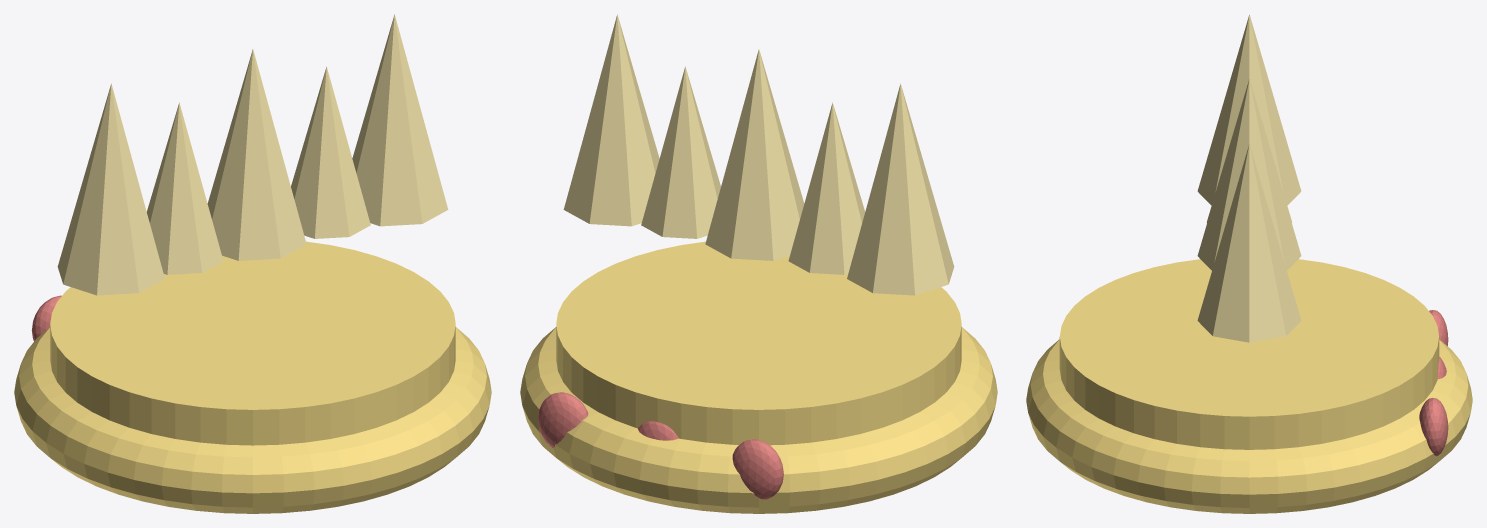
Rendered from gold_crown.glb.
3 views of the same model, side by side, from view 1: azimuth 30°, elevation 25°; view 2: azimuth 150°, elevation 25°; view 3: azimuth 270°, elevation 25° (orthographic). The views are drawn at different scales.
Parts seen in each view (by area): view 1: gold_crown_1, gold_crown_0, gold_crown_2, gold_crown_4, gold_crown_6, gold_crown_5, gold_crown_3, gold_crown_7; view 2: gold_crown_1, gold_crown_0, gold_crown_2, gold_crown_4, gold_crown_6, gold_crown_5, gold_crown_3, gold_crown_7, gold_crown_9, gold_crown_8; view 3: gold_crown_1, gold_crown_0, gold_crown_6, gold_crown_4, gold_crown_2, gold_crown_9.
Part boxes in pixels (x1,y1,x2,y2): gold_crown_1: (50,241,455,445); gold_crown_0: (14,327,491,513); gold_crown_2: (57,83,164,295); gold_crown_4: (207,49,306,260); gold_crown_6: (352,14,448,226); gold_crown_5: (291,66,370,238); gold_crown_3: (147,102,223,274); gold_crown_7: (31,295,61,341); gold_crown_1: (556,241,961,445); gold_crown_0: (520,327,997,513); gold_crown_2: (847,83,954,295); gold_crown_4: (705,49,804,260); gold_crown_6: (563,14,659,226); gold_crown_5: (641,66,720,238); gold_crown_3: (788,102,864,274); gold_crown_7: (732,439,783,499); gold_crown_9: (537,392,588,447); gold_crown_8: (638,421,678,440); gold_crown_1: (1059,259,1439,449); gold_crown_0: (1026,339,1472,513); gold_crown_6: (1197,143,1301,342); gold_crown_4: (1197,79,1301,270); gold_crown_2: (1197,14,1301,205); gold_crown_9: (1419,398,1448,456).
Size of the model in its own units: 0.73 by 0.635 by 0.73.
